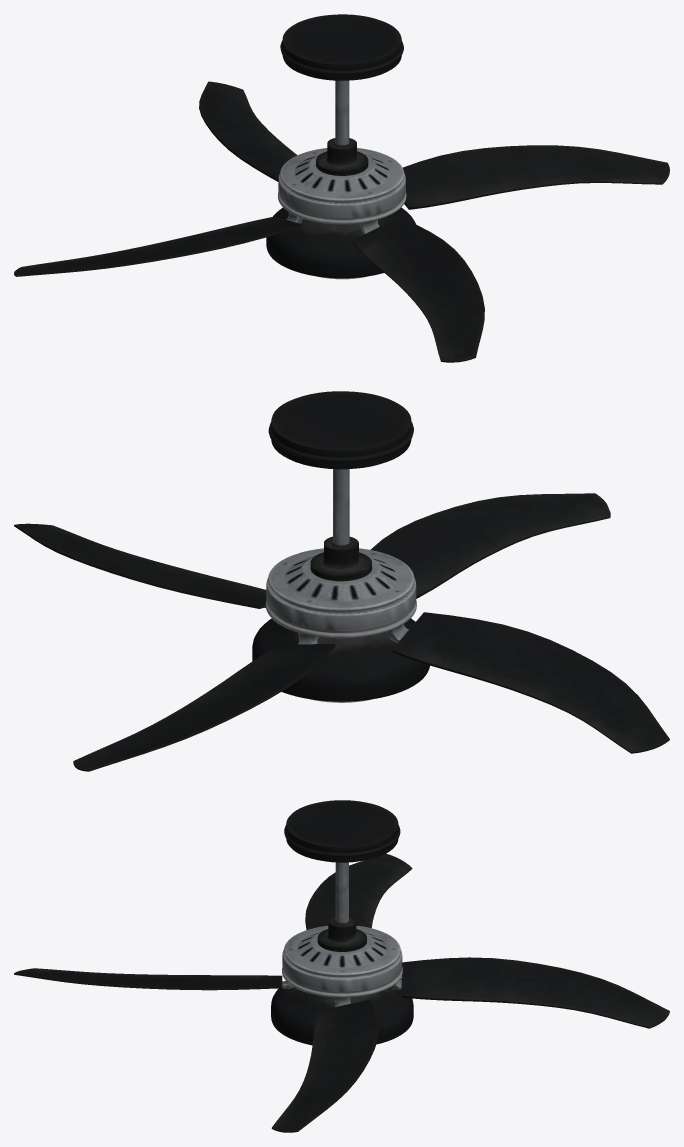
File: ceiling-fan.glb
The picture shows the model from 3 angles, top to bottom: view 1: azimuth 30°, elevation 25°; view 2: azimuth 150°, elevation 25°; view 3: azimuth 270°, elevation 25°; orthographic projection. The views are drawn at different scales.
Parts seen in each view (by area): view 1: ceiling_fan; view 2: ceiling_fan; view 3: ceiling_fan.
Part boxes in pixels (x1,y1,x2,y2): ceiling_fan: (14, 14, 669, 362); ceiling_fan: (14, 391, 669, 771); ceiling_fan: (14, 800, 669, 1132).
Bounding box in the file's own units: 1.46 × 0.52 × 1.46.
1 material, 1 textured.
